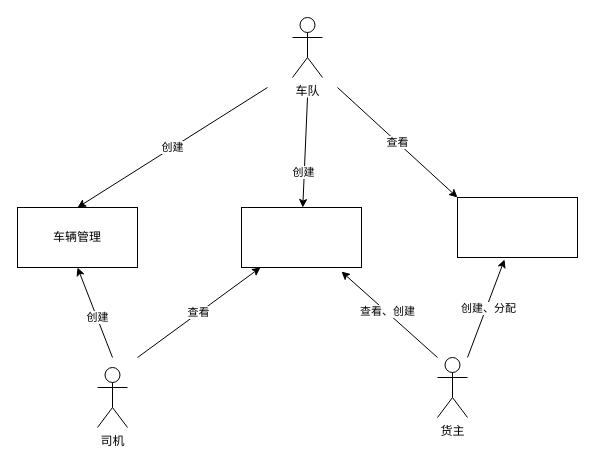
Image size: 595x466. Some labels were removed from this diagram. Here are the shapes that lost their labels. From the top down, the box of each, then its label:
(240, 206, 362, 268): 派车单、过磅单 毛、皮、净
(456, 196, 578, 258): 货物订单
